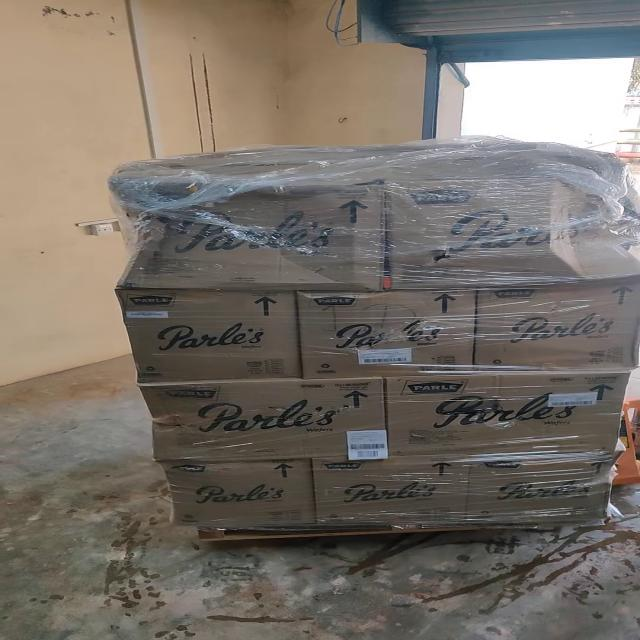squeeze: (110, 162, 373, 288), (545, 152, 640, 278), (412, 385, 516, 427)
